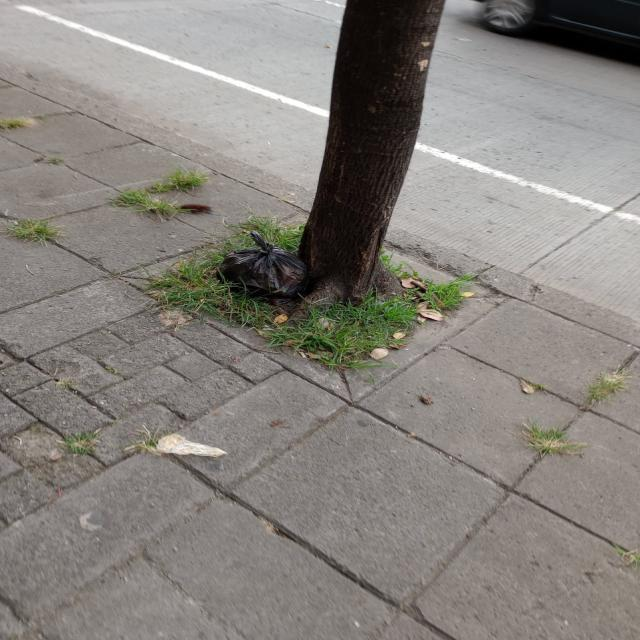Garbage_Bag: (208, 228, 318, 304)
